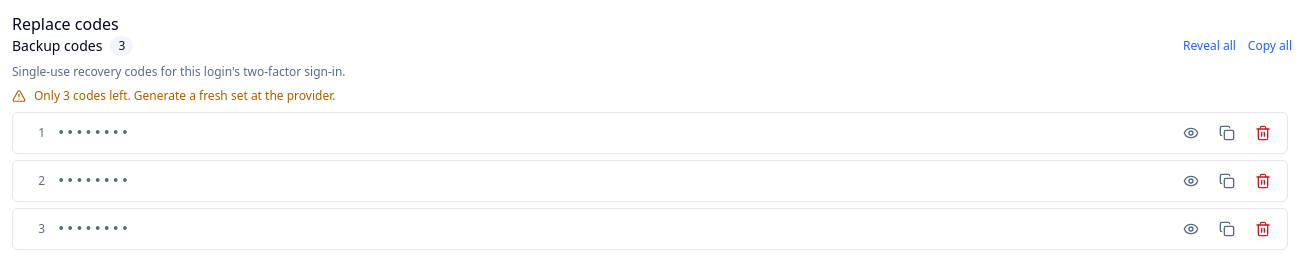
Test: BackupCodeList copying › renames the copy control to confirm which code was copied
The image size is (1304, 267).
Click the button named "Copy backup code 1" at (1227, 133), box left=1215, top=121, right=1239, bottom=145
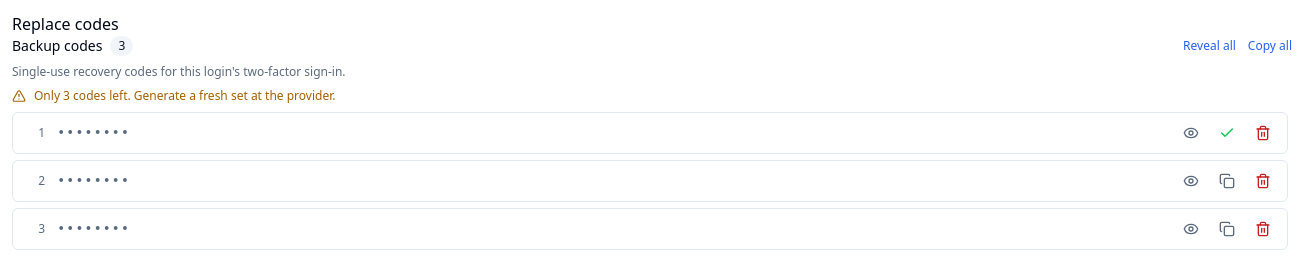
Check: the button named "Copy backup code 2" is shown, box left=1215, top=169, right=1239, bottom=193
Check: the button named "Backup code 1 copied" is shown, box left=1215, top=121, right=1239, bottom=145
